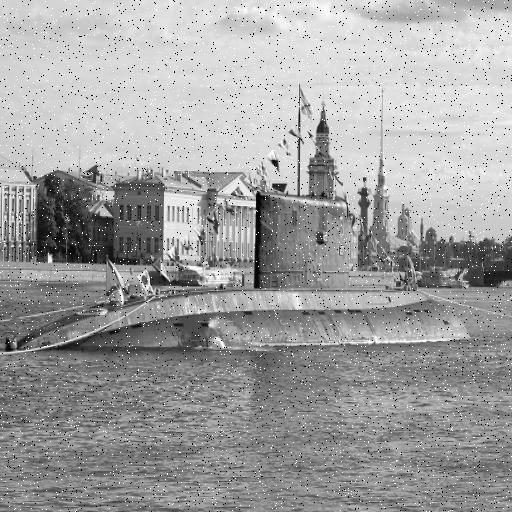submarine: (13, 76, 487, 357)
